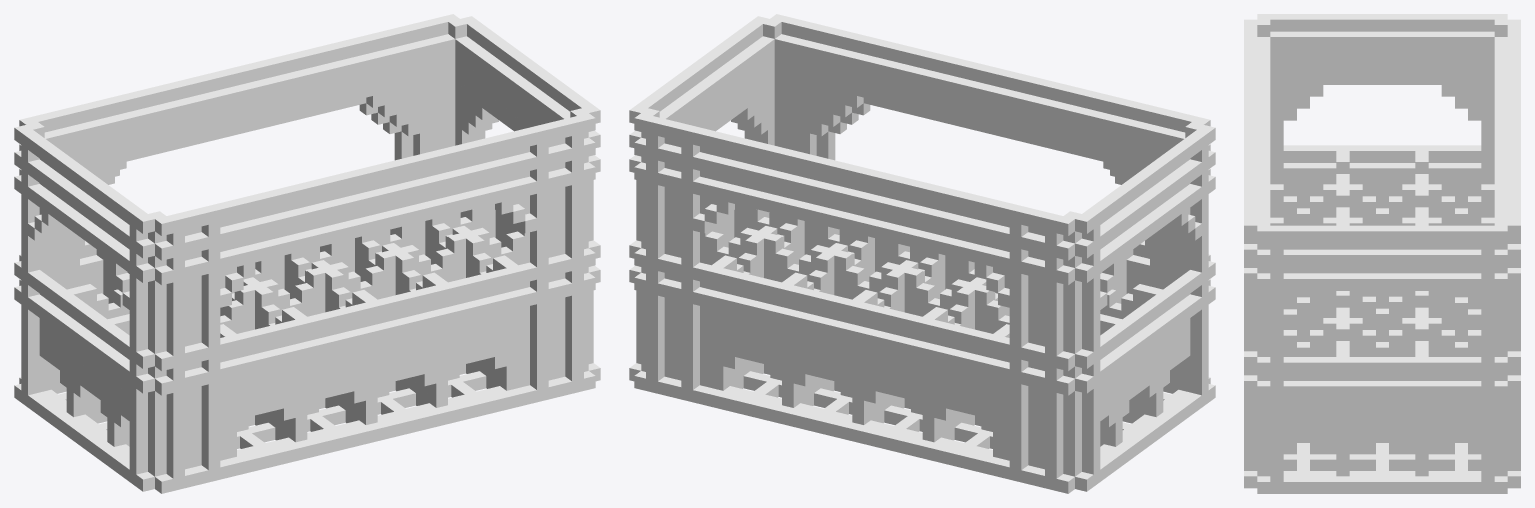
Rendered from BottleCrate-4.obj.
3 views of the same model, side by side, from view 1: azimuth 30°, elevation 25°; view 2: azimuth 150°, elevation 25°; view 3: azimuth 270°, elevation 25° (orthographic). The views are drawn at different scales.
Bounding box in the file's own units: 3.9 × 2.2 × 2.1.
Materials: 1 (1 with a texture image).
